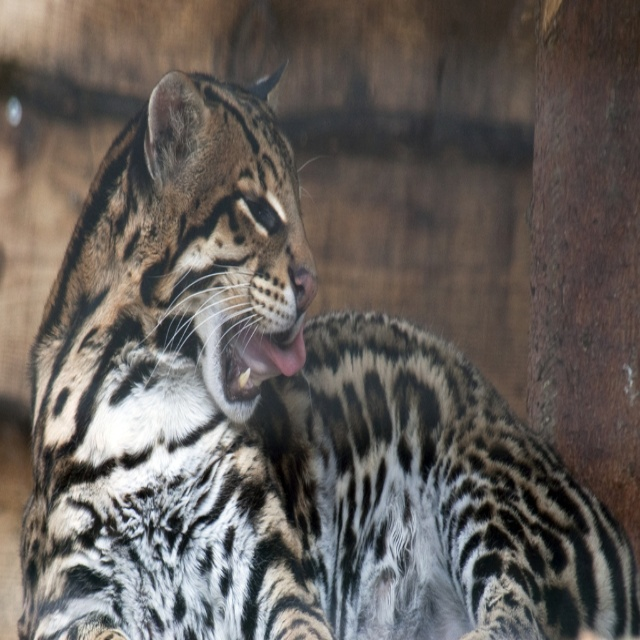Leopard: (17, 66, 640, 639)
